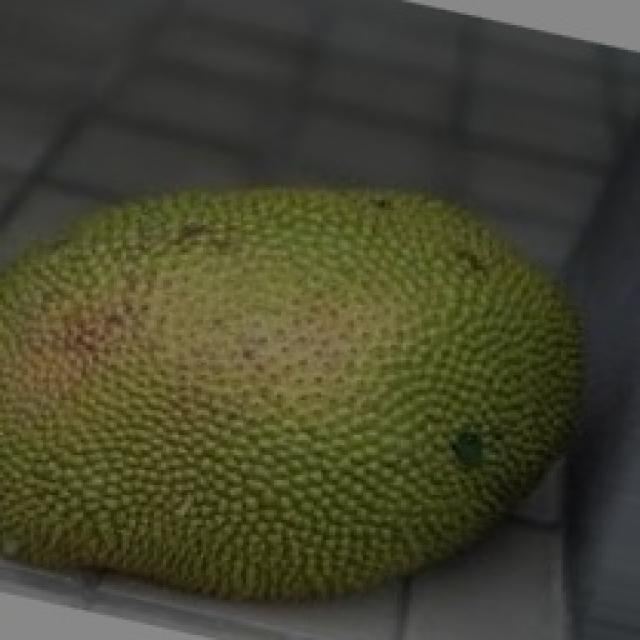Fruit: (0, 252, 378, 639)
